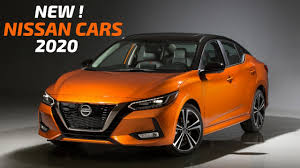Nissan: (79, 37, 262, 149)
